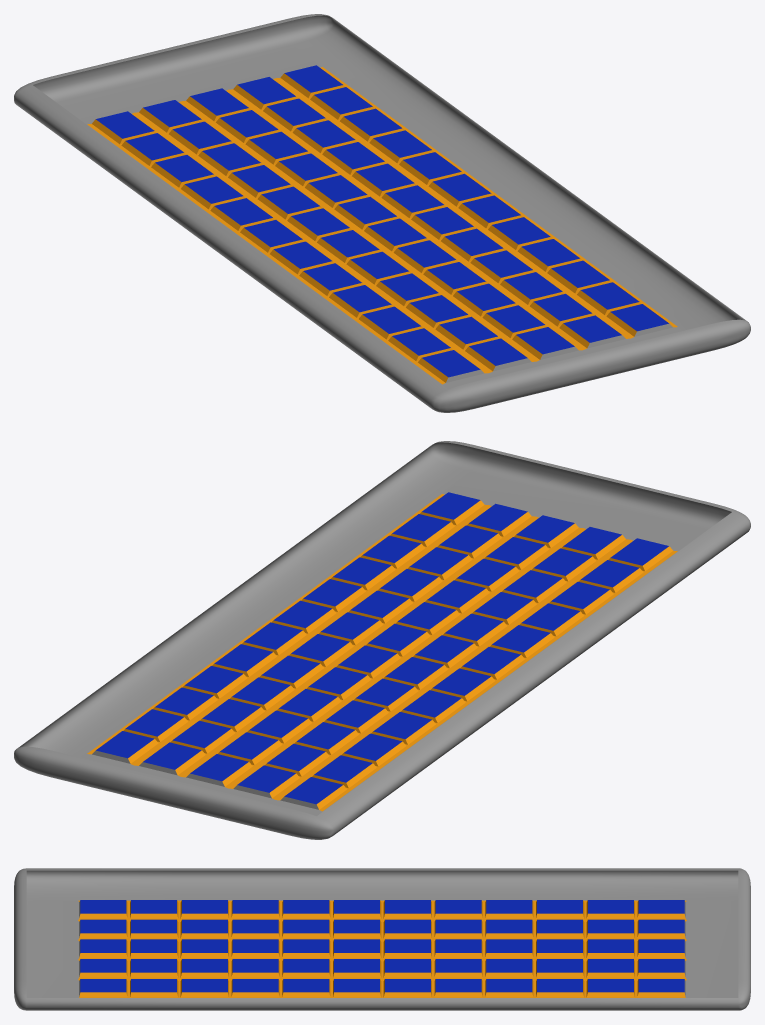
File: Box Ceiling Light.FBX
The picture shows the model from 3 angles, top to bottom: view 1: azimuth 30°, elevation 25°; view 2: azimuth 150°, elevation 25°; view 3: azimuth 270°, elevation 25°; orthographic projection. The views are drawn at different scales.
Visible parts, largest first — view 1: Box024; view 2: Box024; view 3: Box024.
Boxes of the visible parts, x1,y1,x2,y2 form: Box024: (14,14,750,412); Box024: (14,441,750,839); Box024: (14,868,750,1010).
Bounding box in the file's own units: 479 × 34.85 × 1120.
